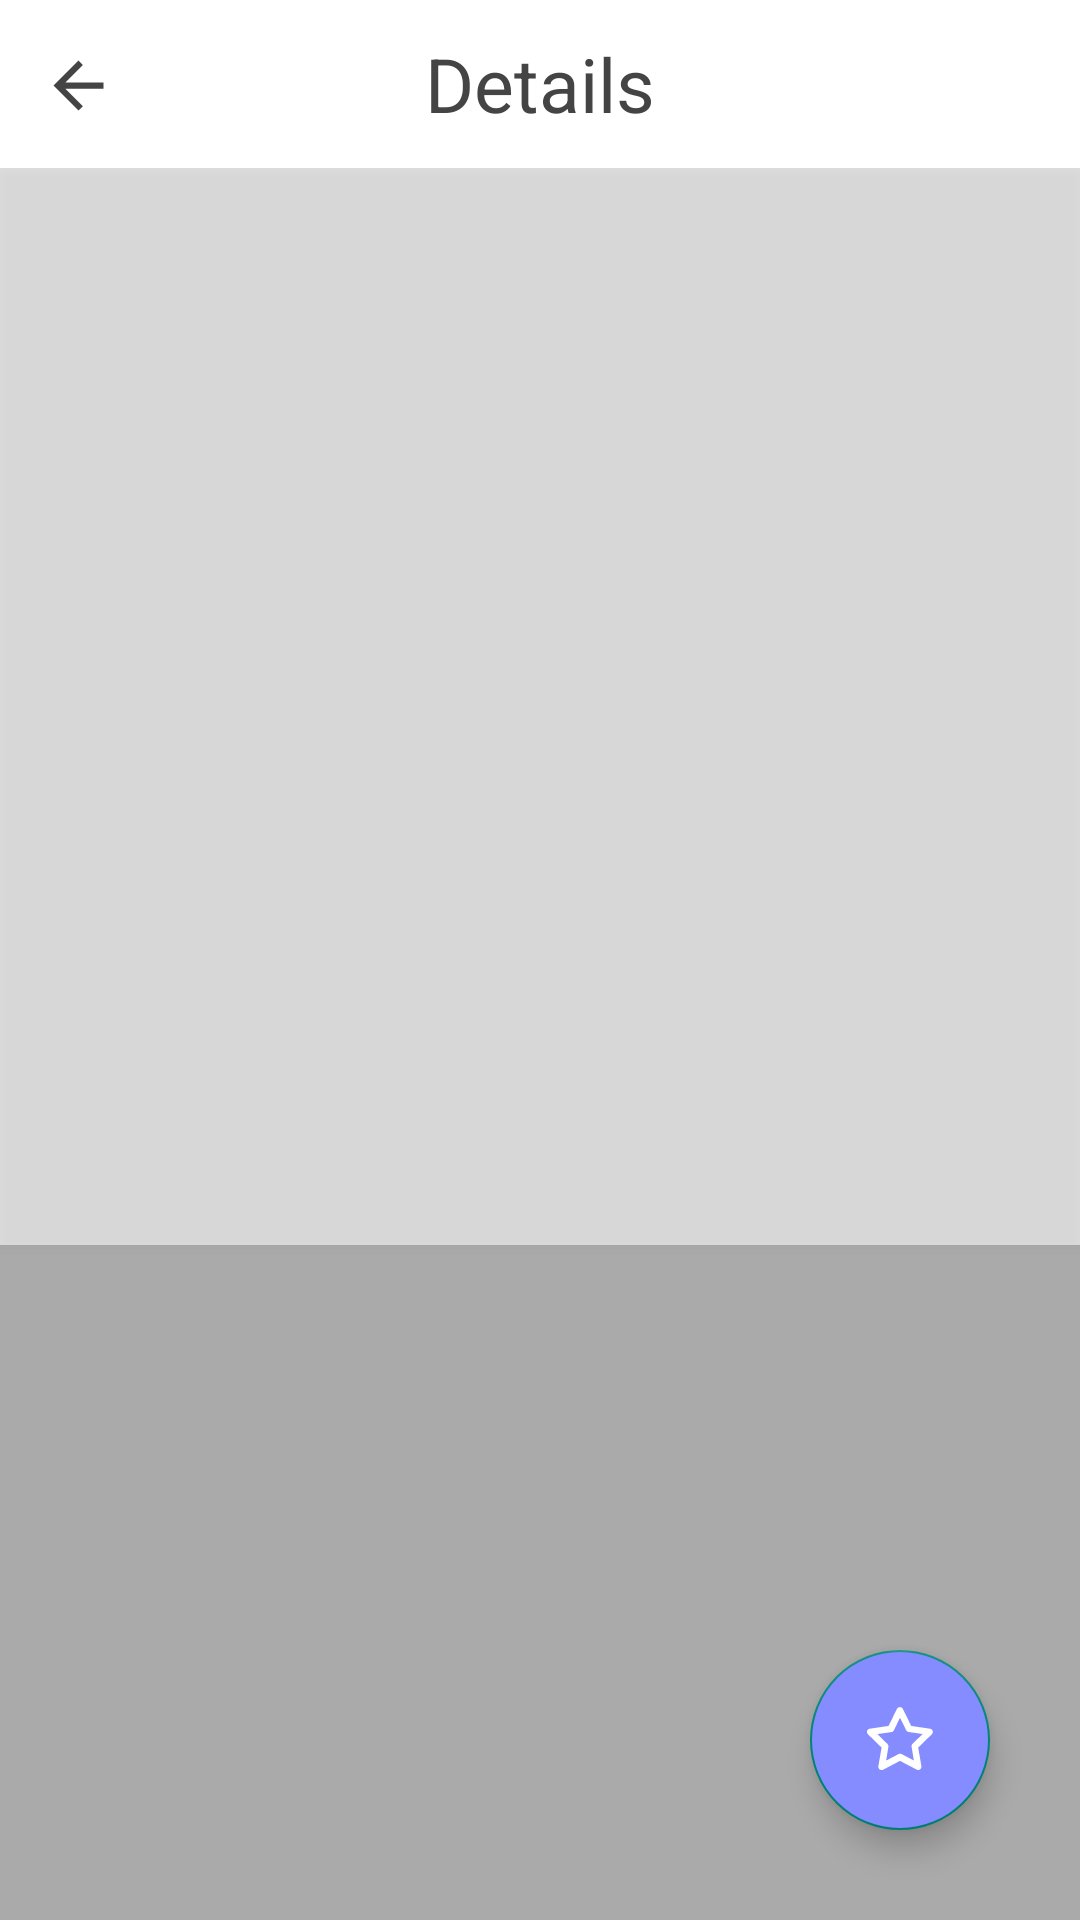

Icons on this 1080×1920 Android screen, each with its box as (x1, y1, x2, y2):
ab back: (53, 60, 104, 111)
star: (810, 1650, 990, 1830)
